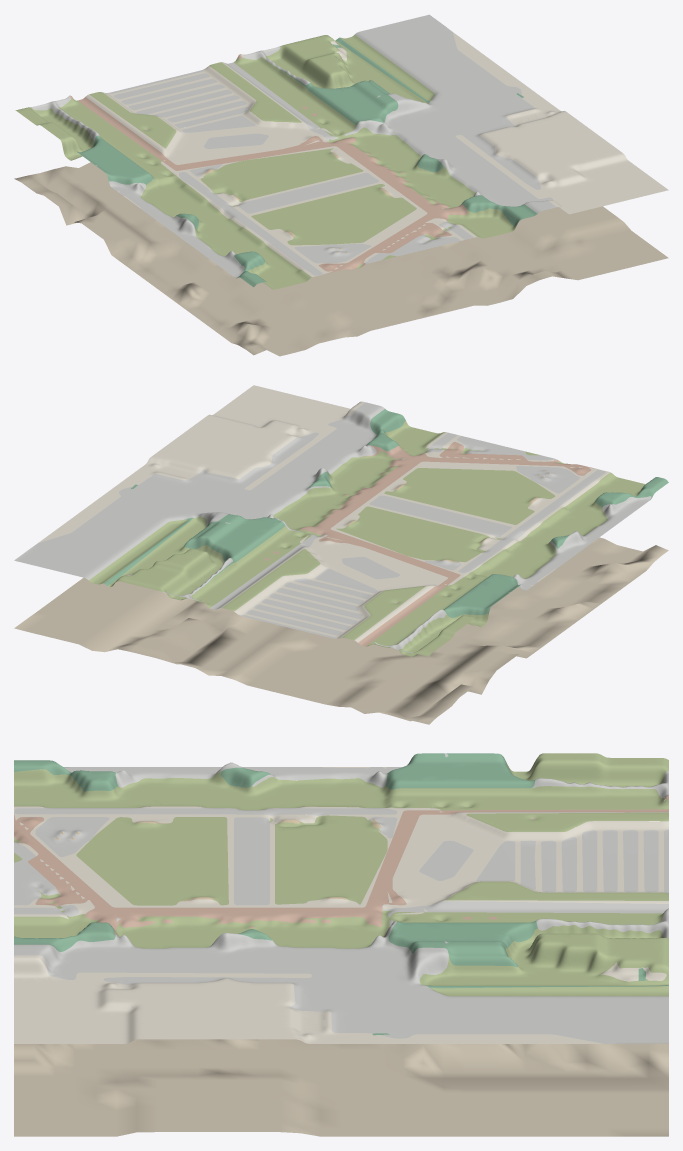
3 views of the same model, one above another, from view 1: azimuth 30°, elevation 25°; view 2: azimuth 150°, elevation 25°; view 3: azimuth 270°, elevation 25° (orthographic). The views are drawn at different scales.
Visible parts, largest first — view 1: s_-1_-1__soil, s_-1_-1__grass, s_-1_-1__stone_paving, s_-1_-1__paving, s_-1_-1__green_court, s_-1_-1__brick_paving; view 2: s_-1_-1__soil, s_-1_-1__grass, s_-1_-1__stone_paving, s_-1_-1__paving, s_-1_-1__green_court, s_-1_-1__brick_paving; view 3: s_-1_-1__grass, s_-1_-1__soil, s_-1_-1__stone_paving, s_-1_-1__paving, s_-1_-1__green_court, s_-1_-1__brick_paving.
Part boxes in pixels (<box>): s_-1_-1__soil: <box>14,128,668,356</box>; s_-1_-1__grass: <box>15,34,516,289</box>; s_-1_-1__stone_paving: <box>31,14,556,277</box>; s_-1_-1__paving: <box>85,32,668,277</box>; s_-1_-1__green_court: <box>76,37,537,287</box>; s_-1_-1__brick_paving: <box>69,54,467,273</box>; s_-1_-1__soil: <box>14,487,668,724</box>; s_-1_-1__grass: <box>89,421,645,656</box>; s_-1_-1__stone_paving: <box>14,402,651,652</box>; s_-1_-1__paving: <box>38,385,609,642</box>; s_-1_-1__green_court: <box>104,409,668,617</box>; s_-1_-1__brick_paving: <box>203,442,597,646</box>; s_-1_-1__grass: <box>14,753,668,996</box>; s_-1_-1__soil: <box>14,817,668,1136</box>; s_-1_-1__stone_paving: <box>14,753,668,1043</box>; s_-1_-1__paving: <box>14,767,668,1043</box>; s_-1_-1__green_court: <box>14,753,668,1035</box>; s_-1_-1__brick_paving: <box>14,795,668,936</box>.
Size of the model in its own units: 128 by 24.01 by 128.
